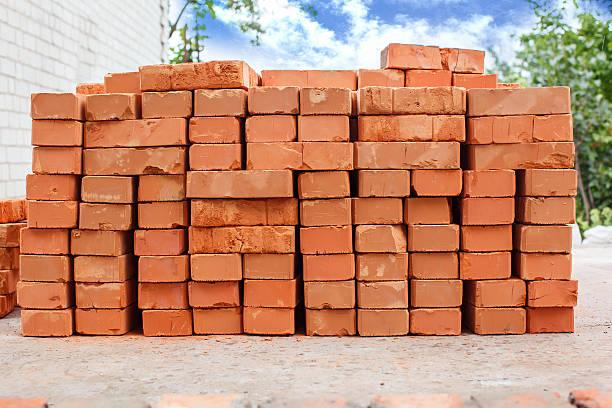brick: (83, 144, 184, 176), (186, 170, 296, 199), (470, 113, 572, 143), (357, 114, 466, 141), (356, 142, 461, 170), (248, 139, 353, 167), (83, 118, 187, 146), (360, 84, 464, 112), (192, 200, 298, 227), (188, 226, 297, 252), (470, 86, 571, 112), (472, 143, 573, 167), (263, 66, 356, 89), (170, 61, 243, 90), (387, 43, 444, 71), (298, 87, 353, 116), (459, 252, 513, 280), (244, 306, 294, 336), (529, 167, 579, 197), (303, 281, 356, 309), (409, 223, 460, 252), (299, 227, 353, 254), (191, 252, 243, 280), (468, 169, 516, 199), (78, 202, 131, 229), (412, 308, 463, 336), (520, 224, 571, 252), (141, 91, 192, 119), (76, 309, 128, 336), (30, 120, 82, 147), (359, 310, 409, 338), (361, 169, 411, 197), (303, 253, 356, 279), (413, 280, 464, 307), (301, 197, 352, 224), (29, 146, 80, 173), (476, 280, 528, 306), (246, 279, 296, 306), (190, 282, 240, 309), (359, 253, 409, 280), (526, 197, 576, 224), (412, 252, 460, 280), (358, 224, 404, 253), (476, 308, 527, 334), (143, 310, 194, 336), (298, 170, 349, 196), (189, 142, 240, 168), (193, 90, 244, 116), (247, 114, 298, 140), (523, 253, 572, 280), (22, 311, 72, 337), (27, 201, 77, 227), (466, 197, 516, 223), (247, 88, 299, 113), (528, 280, 577, 306), (188, 116, 241, 140), (297, 116, 350, 140), (309, 310, 356, 337), (134, 230, 181, 257), (76, 282, 121, 310), (244, 253, 294, 278), (86, 94, 136, 119), (360, 282, 407, 308), (194, 309, 242, 334), (73, 256, 121, 281), (20, 229, 68, 254), (82, 177, 132, 201), (28, 176, 76, 201), (140, 283, 189, 307), (137, 256, 184, 281), (140, 203, 187, 228), (412, 171, 463, 194), (464, 226, 512, 250), (31, 94, 79, 118), (530, 308, 576, 333), (16, 284, 66, 307), (356, 198, 403, 222), (72, 231, 120, 254), (20, 256, 64, 281), (408, 198, 451, 223), (139, 177, 182, 201), (444, 49, 484, 72), (102, 69, 140, 93), (358, 70, 403, 84), (407, 71, 449, 86)
